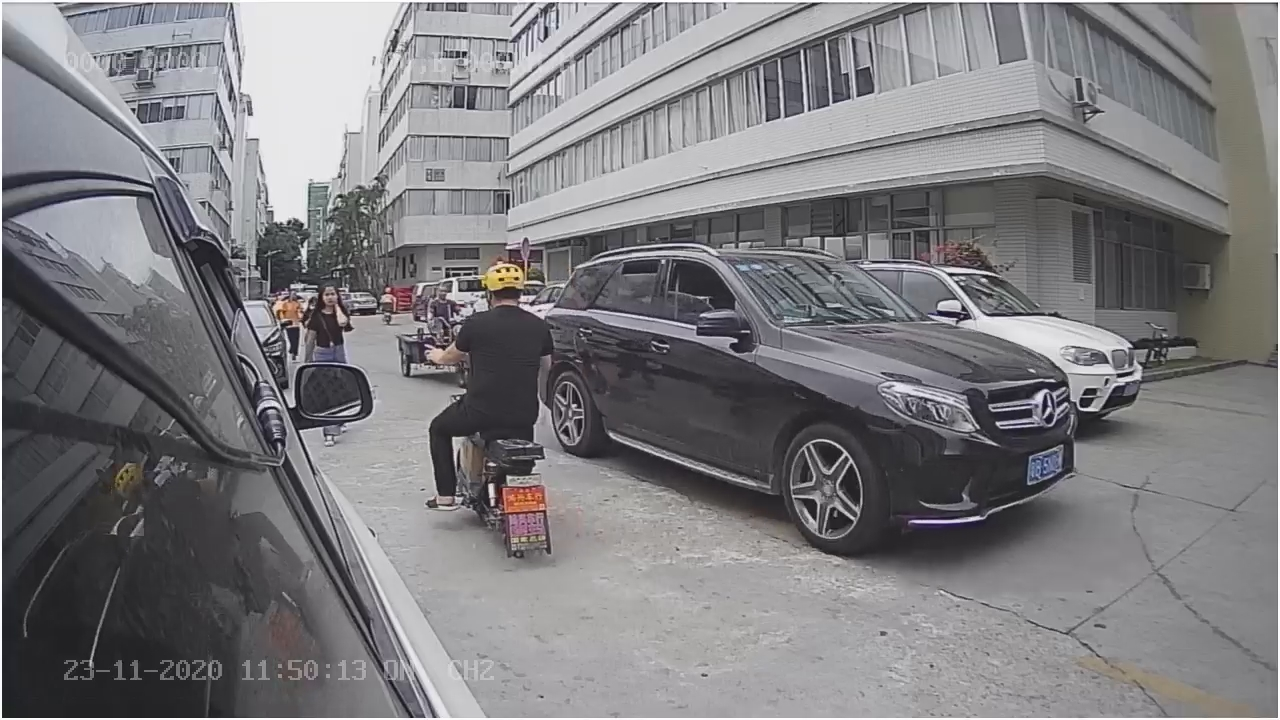person: (419, 262, 553, 376)
